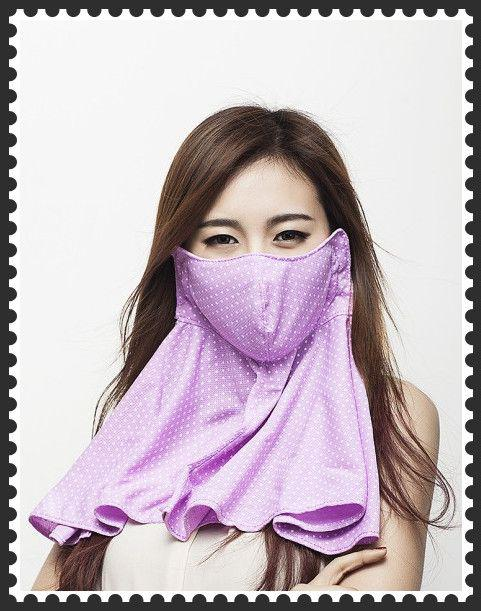OK: (193, 207, 340, 354)
